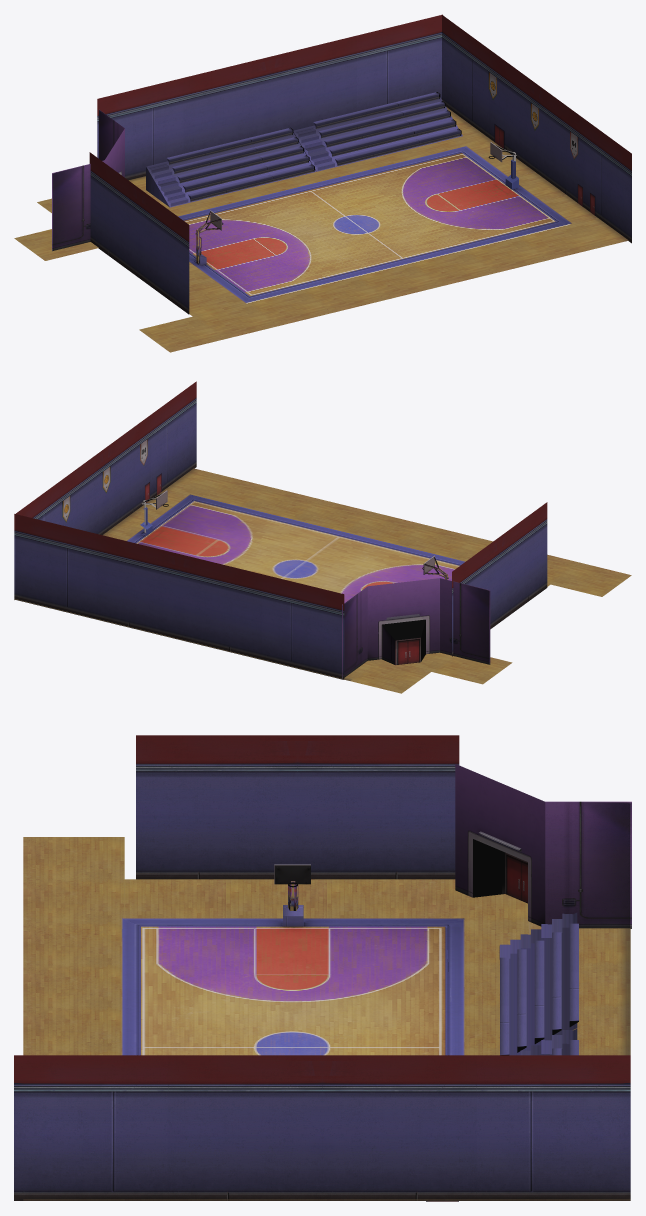
Rendered from court_healthclub_mesh.fbx.
3 renders of one model, top to bottom at view 1: azimuth 30°, elevation 25°; view 2: azimuth 150°, elevation 25°; view 3: azimuth 270°, elevation 25°, orthographic. The views are drawn at different scales.
Parts seen in each view (by area): view 1: court_healthclub_mesh; view 2: court_healthclub_mesh; view 3: court_healthclub_mesh.
Part boxes in pixels (x1=…): court_healthclub_mesh: x1=14, y1=14, x2=631, y2=352; court_healthclub_mesh: x1=14, y1=381, x2=631, y2=693; court_healthclub_mesh: x1=14, y1=735, x2=631, y2=1201.
Bounding box in the file's own units: 142 × 26.58 × 102.
